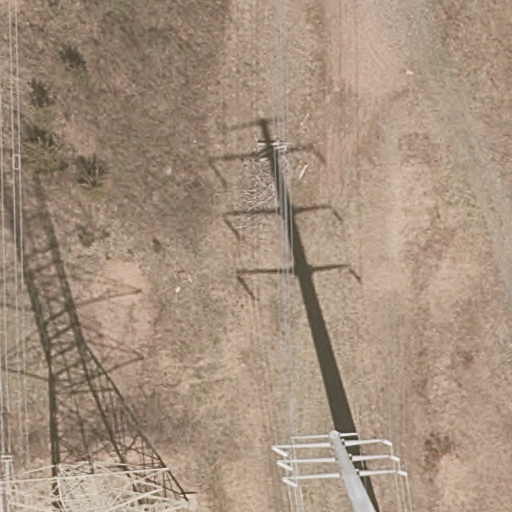TT: (1, 451, 201, 512), (271, 430, 408, 512)
